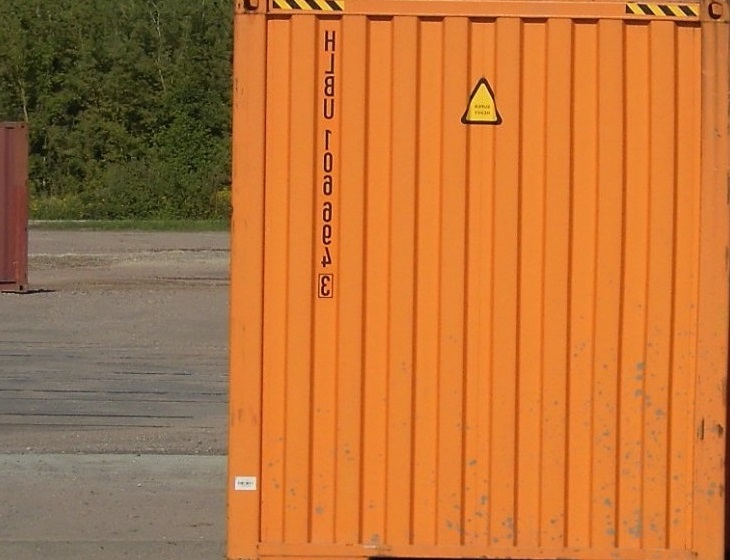container_no_door: (230, 5, 726, 557)
